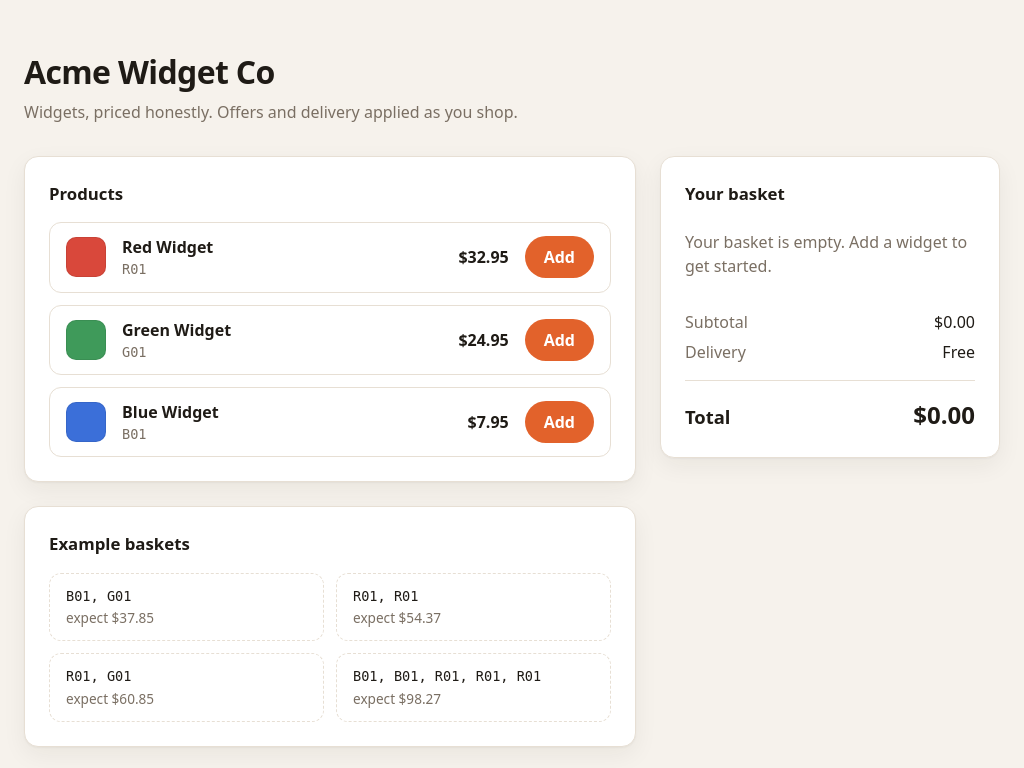
Test case: App › clears the basket back to $0.00
The width and height of the screenshot is (1024, 768).
What coordinates should you click on to do the following:
click the button with aria-label "Add Blue Widget"
I would click on:
 (559, 422)
Its box is [525,401,594,443].
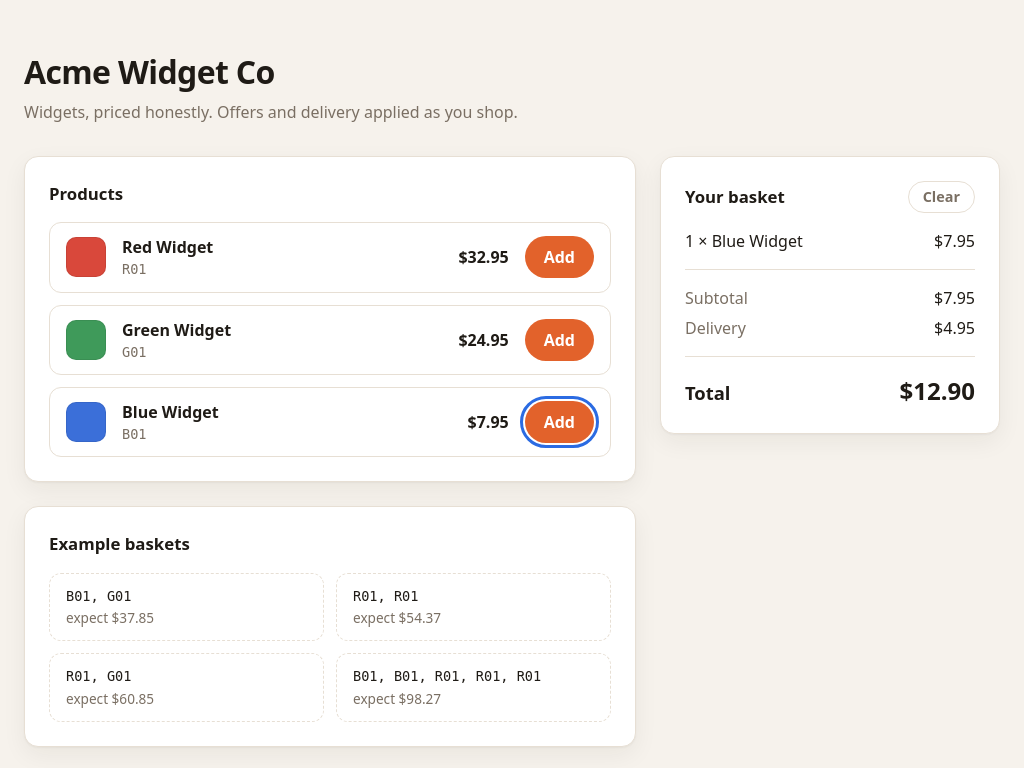
What coordinates should you click on to do the following:
click the button "Clear"
I would click on:
 (941, 197)
Its box is [908,181,975,213].
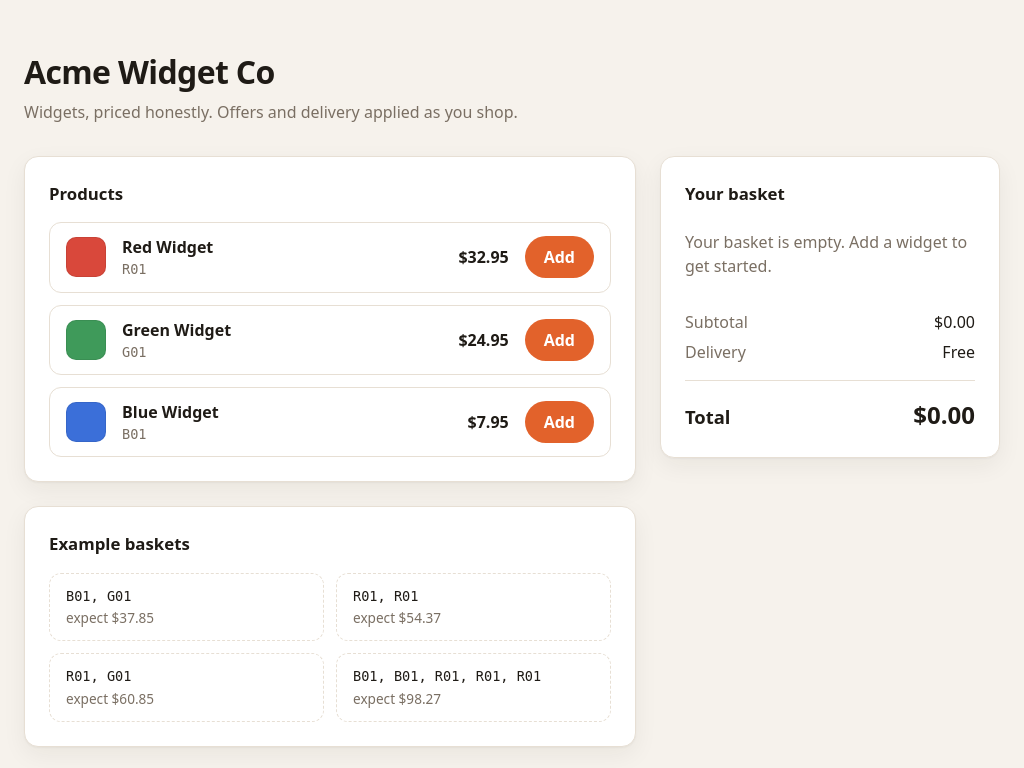
expect the button "Clear" is gone: met
